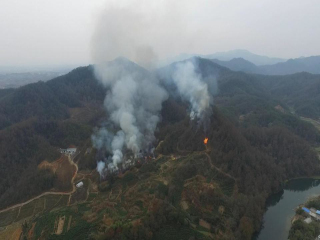smoke: (87, 4, 168, 180), (171, 60, 220, 124)
